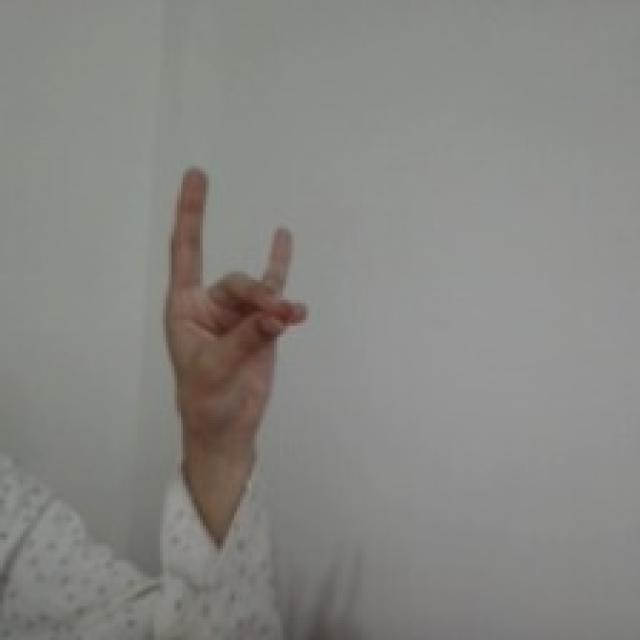Dog: (155, 160, 315, 443)
